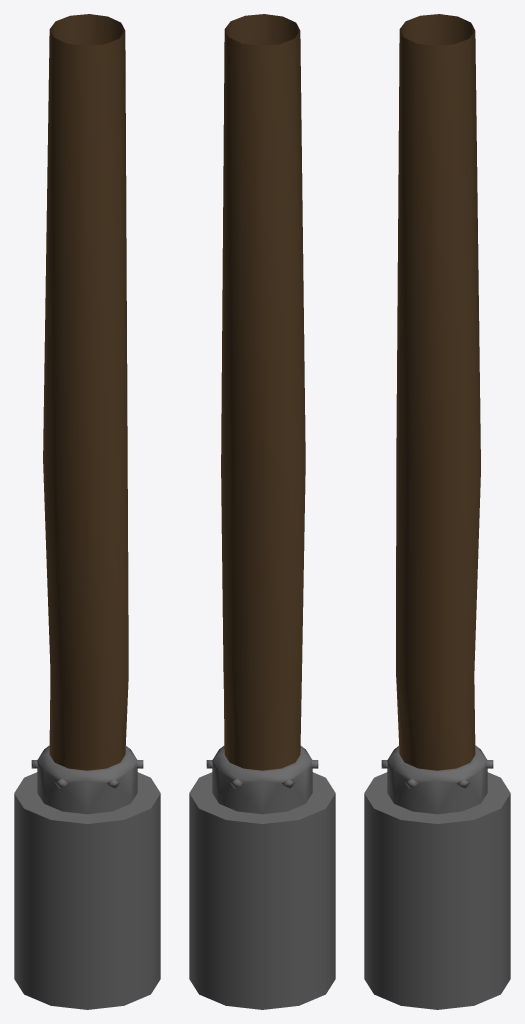
The model's file is Pillar1.fbx.
3 renders of one model, left to right at view 1: azimuth 30°, elevation 25°; view 2: azimuth 150°, elevation 25°; view 3: azimuth 270°, elevation 25°, orthographic.
Parts seen in each view (by area): view 1: pCylinder7; view 2: pCylinder7; view 3: pCylinder7.
Boxes of the visible parts, bbox=[...] form: pCylinder7: bbox=[14, 14, 160, 1009]; pCylinder7: bbox=[189, 14, 335, 1009]; pCylinder7: bbox=[364, 14, 510, 1009].
Size of the model in its own units: 9.41 by 67.3 by 9.41.
